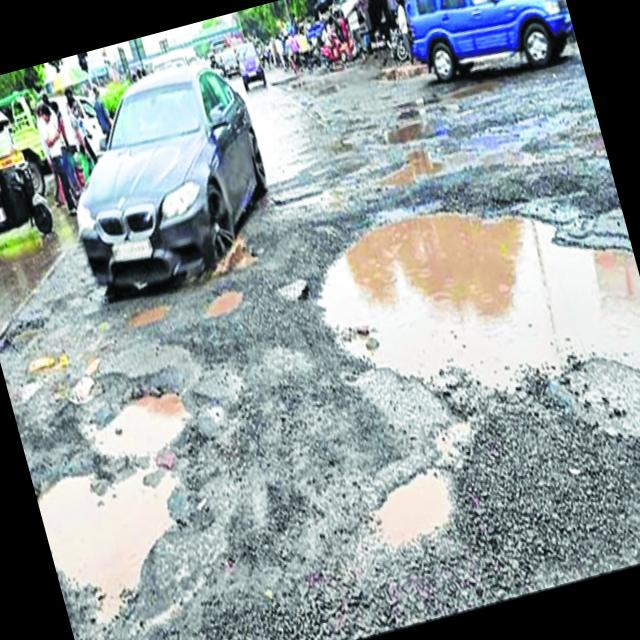Potholes: (295, 144, 640, 462), (9, 348, 258, 640), (351, 82, 604, 205), (336, 406, 520, 568), (192, 278, 262, 325), (0, 314, 53, 373), (122, 298, 181, 332)
